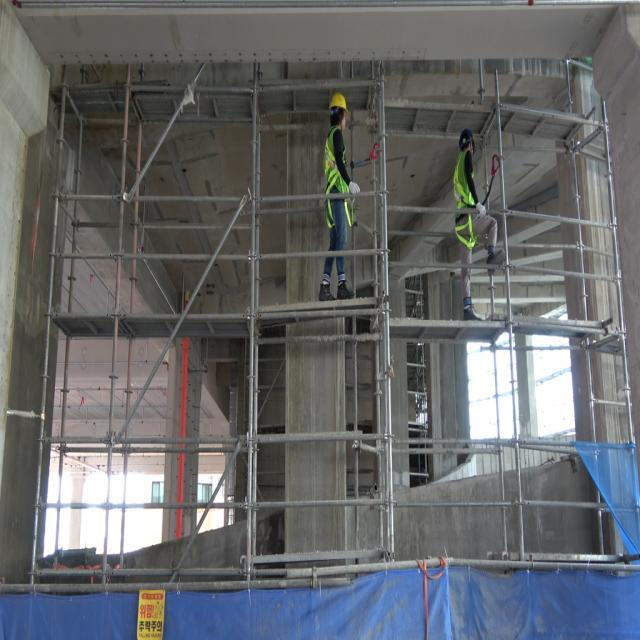belt: (325, 126, 355, 228), (454, 152, 478, 250)
